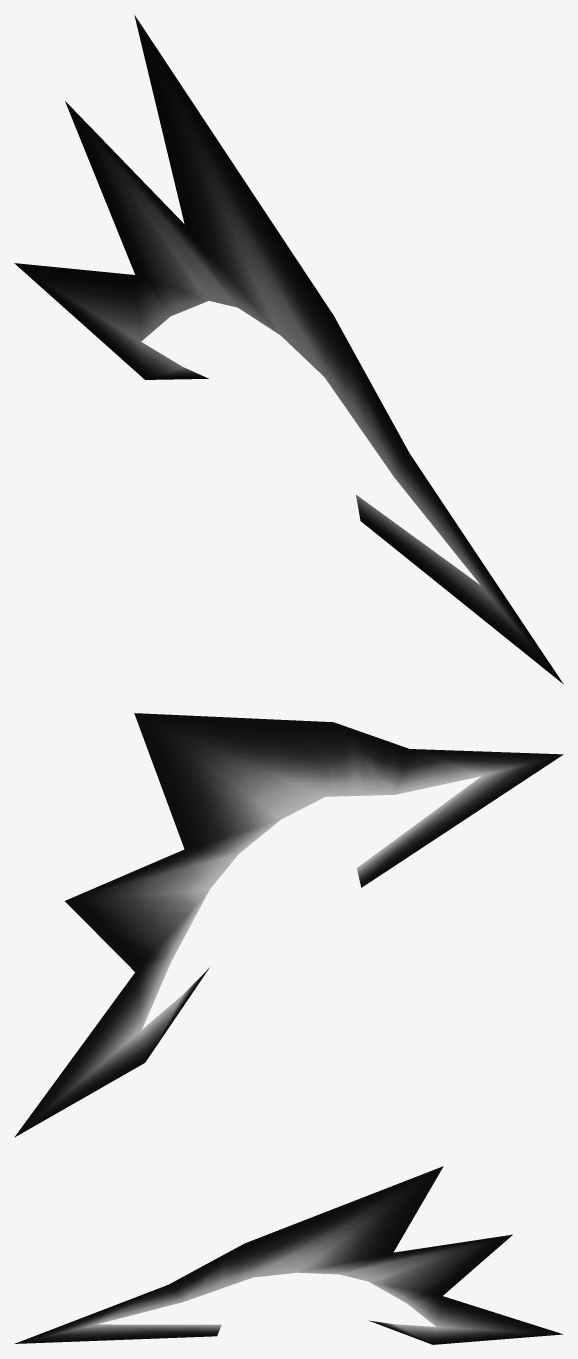
Rendered from yinxinzhiren001_FX02.fbx.
The picture shows the model from 3 angles, top to bottom: view 1: azimuth 30°, elevation 25°; view 2: azimuth 150°, elevation 25°; view 3: azimuth 270°, elevation 25°; orthographic projection. The views are drawn at different scales.
Visible parts, largest first — view 1: yinxinzhiren001_FX02; view 2: yinxinzhiren001_FX02; view 3: yinxinzhiren001_FX02.
Boxes of the visible parts, left/top/right/bottom form: yinxinzhiren001_FX02: left=14, top=15, right=563, bottom=684; yinxinzhiren001_FX02: left=14, top=713, right=563, bottom=1137; yinxinzhiren001_FX02: left=14, top=1166, right=562, bottom=1344.
Bounding box in the file's own units: 0.0838 × 69.09 × 193.
